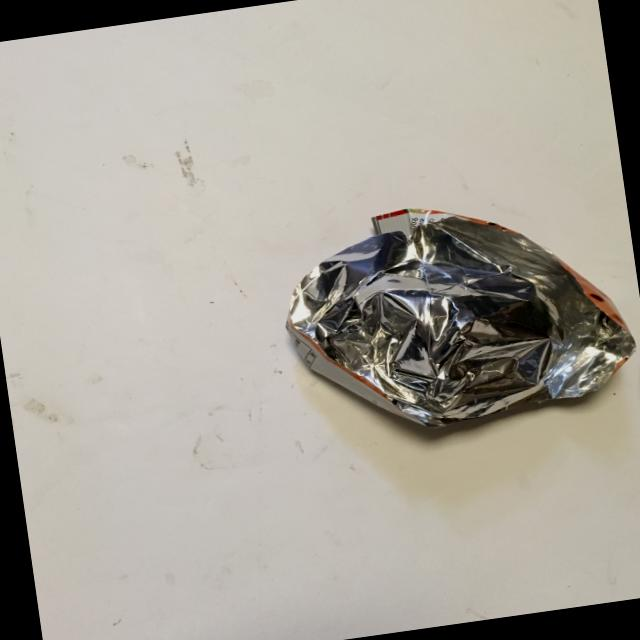Plastic: (201, 139, 640, 497)
